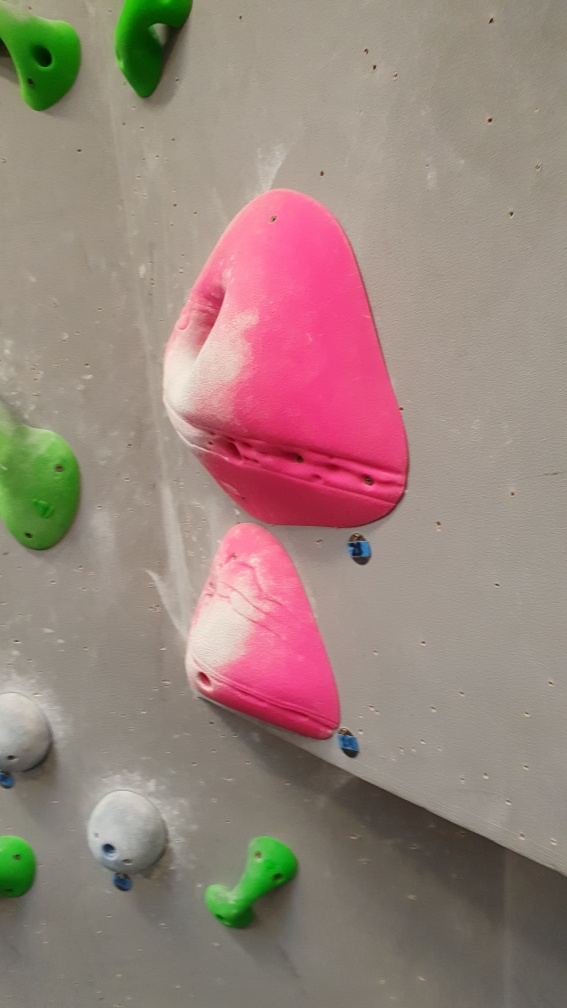Hand Start: (339, 524, 378, 573), (335, 722, 364, 759), (109, 864, 137, 895), (1, 773, 20, 792)
Pocket: (158, 186, 409, 530), (181, 519, 349, 748)
Sloper: (83, 786, 171, 873), (1, 691, 64, 772)
